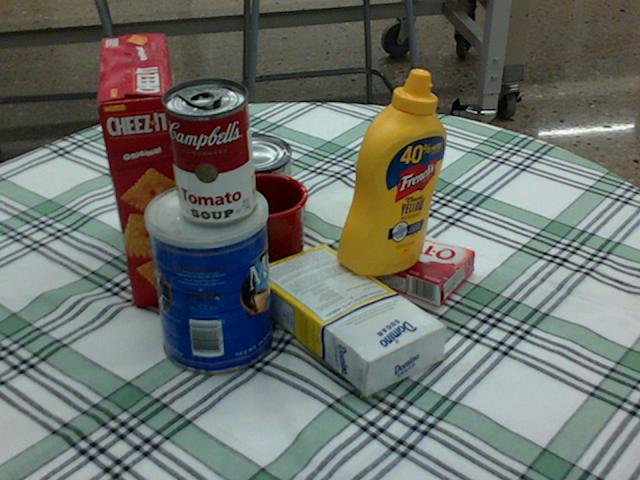cracker_box: (95, 36, 199, 305)
gelatin_box: (362, 228, 473, 307)
master_chef_can: (143, 179, 275, 375)
mug: (195, 172, 306, 280)
mustard_bottle: (337, 68, 445, 275)
potted_meat_can: (187, 151, 301, 238)
sugar_box: (250, 244, 448, 392)
tomato_soup_can: (161, 76, 255, 223)
tuna_fish_can: (211, 133, 291, 197)
